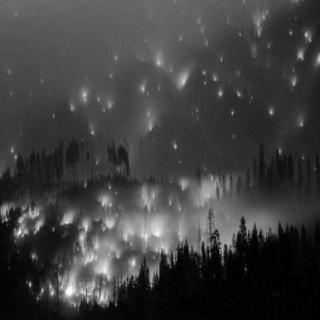Fire: (2, 3, 319, 309)
